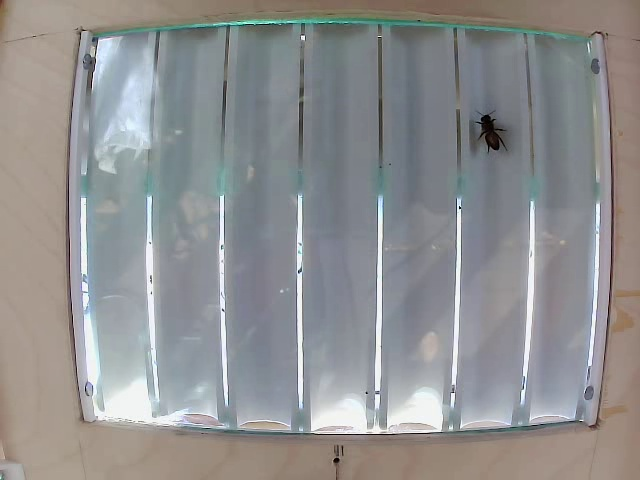bee: (476, 104, 507, 159)
